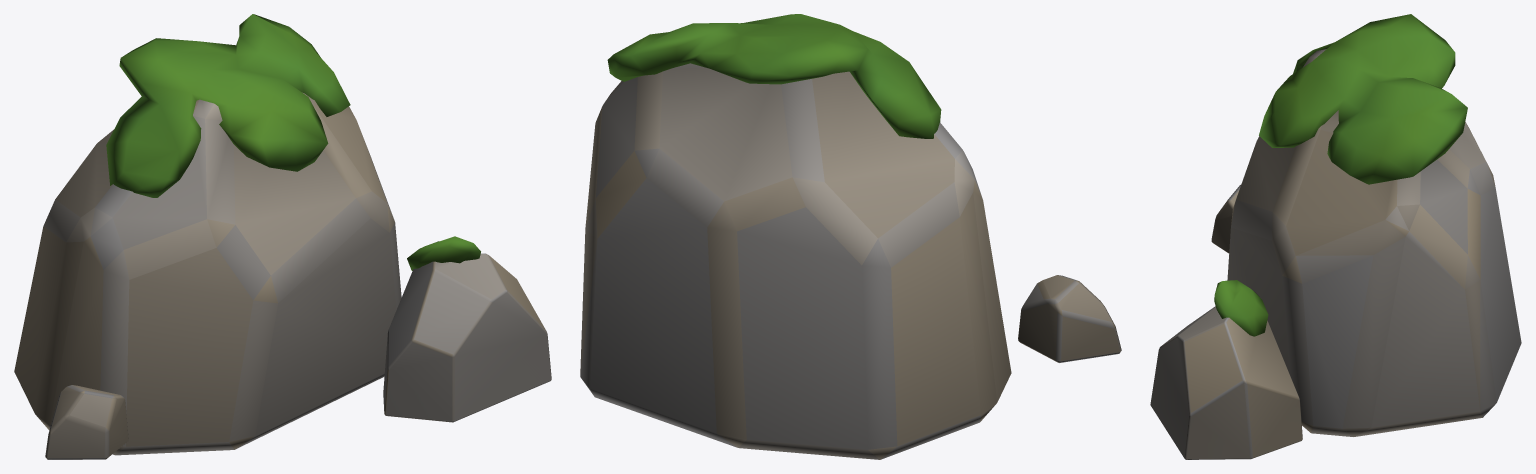
Rendered from rock-a.glb.
3 views of the same model, side by side, from view 1: azimuth 30°, elevation 25°; view 2: azimuth 150°, elevation 25°; view 3: azimuth 270°, elevation 25° (orthographic). The views are drawn at different scales.
Parts seen in each view (by area): view 1: Rock A Rock, Rock A Moss; view 2: Rock A Rock, Rock A Moss; view 3: Rock A Rock, Rock A Moss.
Boxes of the visible parts, x1,y1,x2,y2 form: Rock A Rock: (14,92,551,459); Rock A Moss: (106,14,480,270); Rock A Rock: (580,63,1121,459); Rock A Moss: (607,14,941,138); Rock A Rock: (1150,49,1521,459); Rock A Moss: (1214,14,1467,336).
Bounding box in the file's own units: 3.08 × 2.03 × 2.17.
